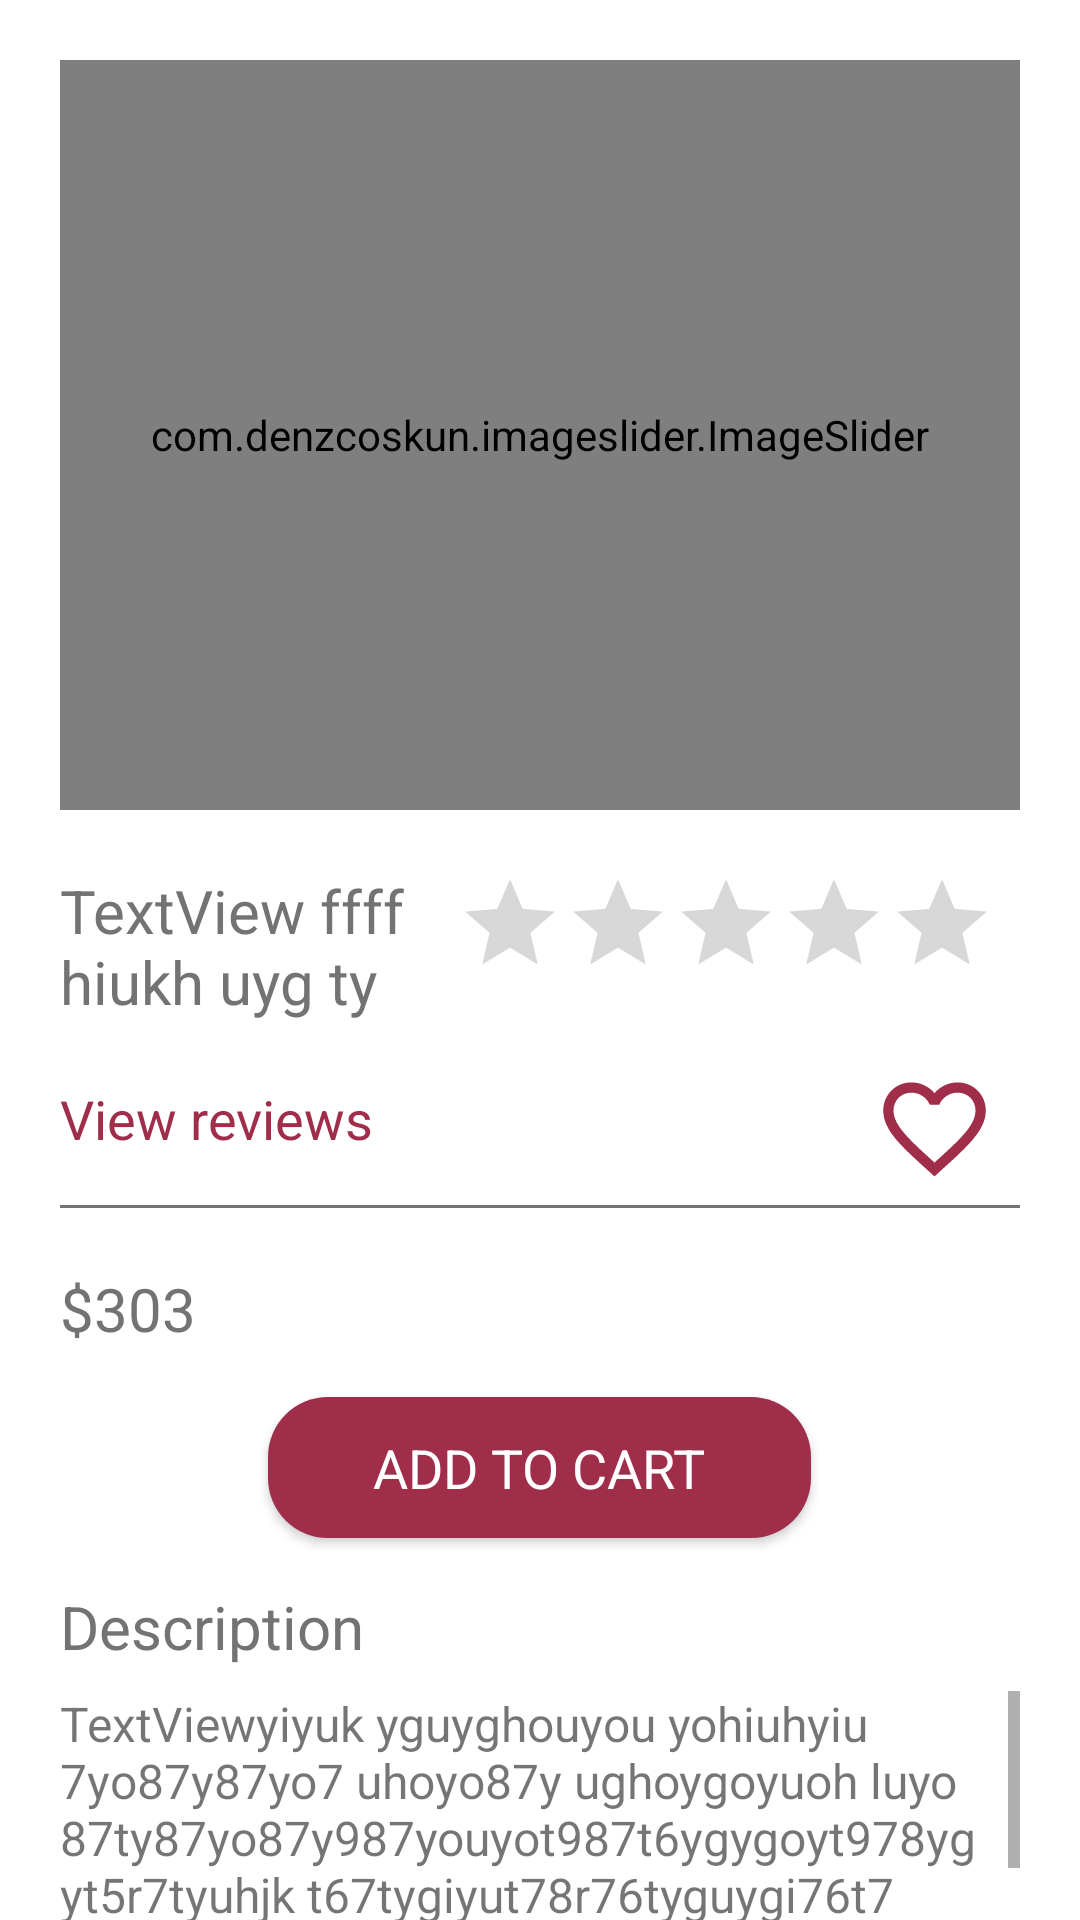

Named icons in this screenshot (1080 × 1920) and their centers, [x,y]:
favorite border: [934,1129]
